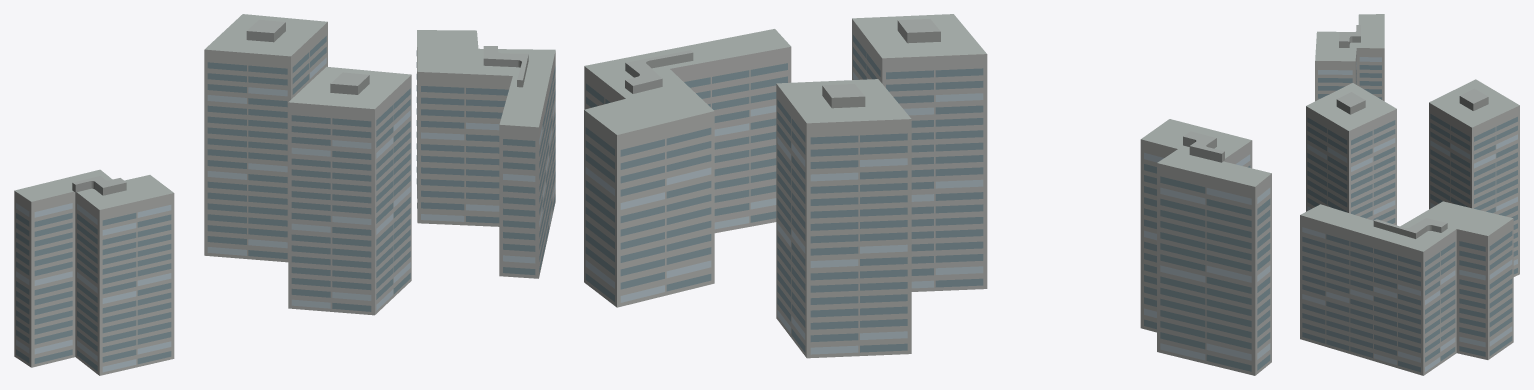
Rendered from apt-a13201202.glb.
3 renders of one model, left to right at view 1: azimuth 30°, elevation 25°; view 2: azimuth 150°, elevation 25°; view 3: azimuth 270°, elevation 25°, orthographic. The views are drawn at different scales.
Parts seen in each view (by area): view 1: apt-a13201202; view 2: apt-a13201202; view 3: apt-a13201202.
Part boxes in pixels (bbox=[...]): apt-a13201202: bbox=[14, 14, 555, 375]; apt-a13201202: bbox=[584, 14, 1271, 375]; apt-a13201202: bbox=[1300, 14, 1519, 375].
Bounding box in the file's own units: 157 × 57 × 64.4.
